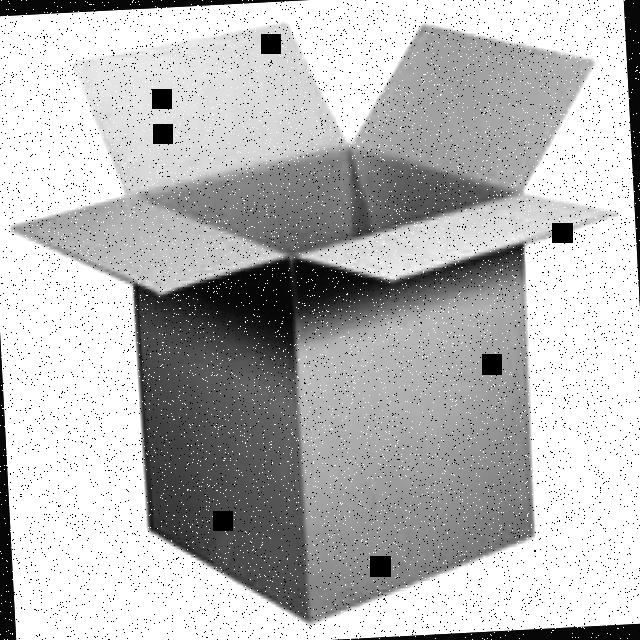cardboard_box: (11, 8, 639, 636)
